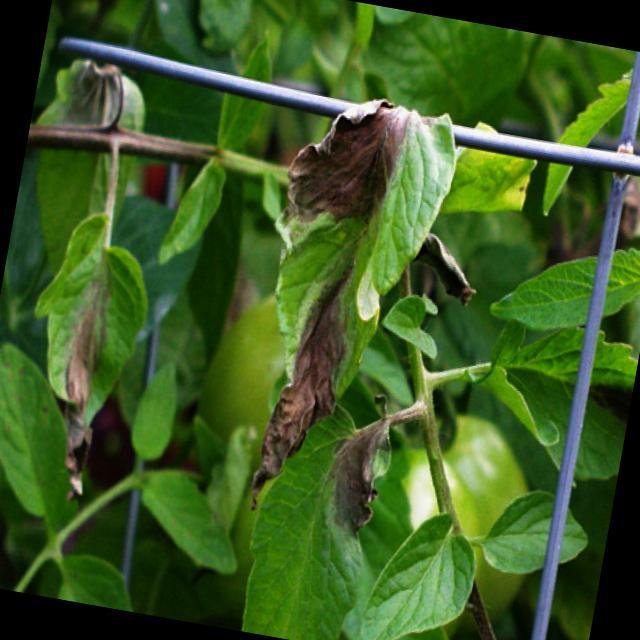Tomato healthy leaf: (354, 499, 483, 640)
Tomato late blight leaf: (227, 83, 472, 530), (207, 376, 420, 640), (0, 203, 162, 511)
